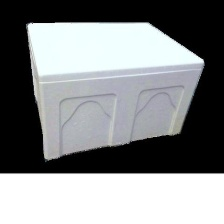foam_box: (19, 15, 209, 166)
